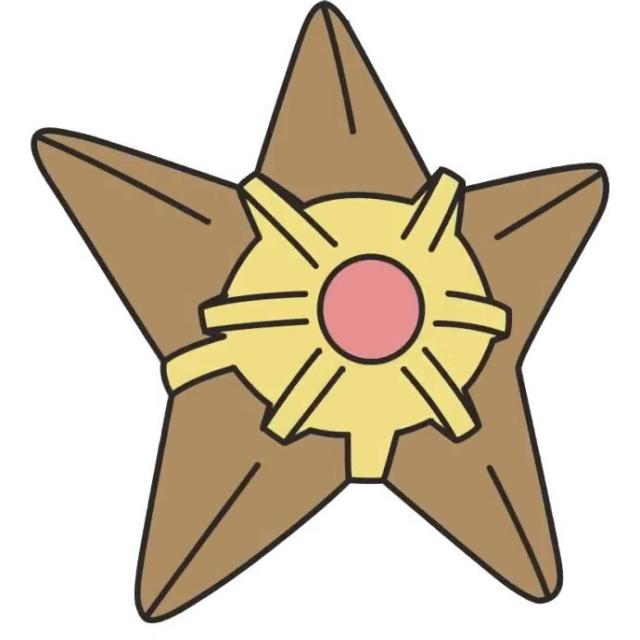Staryu: (31, 0, 609, 597)
